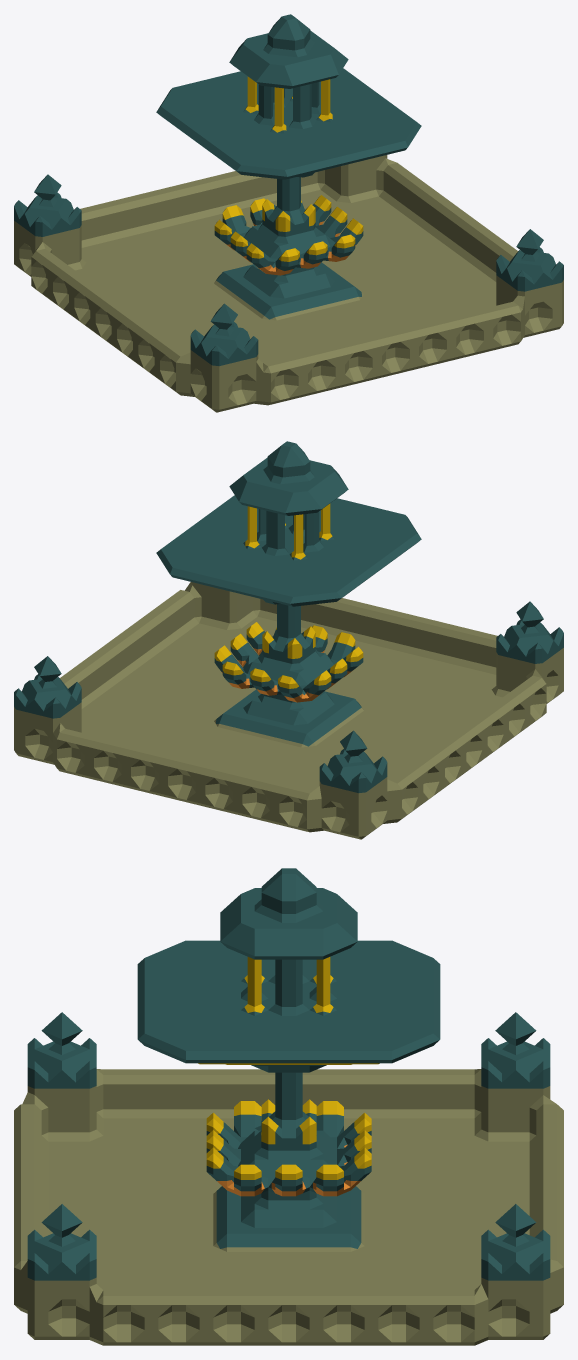
Rendered from Game_fountain.fbx.
3 views of the same model, one above another, from view 1: azimuth 30°, elevation 25°; view 2: azimuth 150°, elevation 25°; view 3: azimuth 270°, elevation 25° (orthographic). The views are drawn at different scales.
Parts seen in each view (by area): view 1: fountain_mc; view 2: fountain_mc; view 3: fountain_mc.
Part boxes in pixels (bbox=[...]): fountain_mc: bbox=[14, 14, 563, 412]; fountain_mc: bbox=[14, 441, 563, 839]; fountain_mc: bbox=[14, 868, 563, 1345].
Bounding box in the file's own units: 4 × 2.9 × 4.
